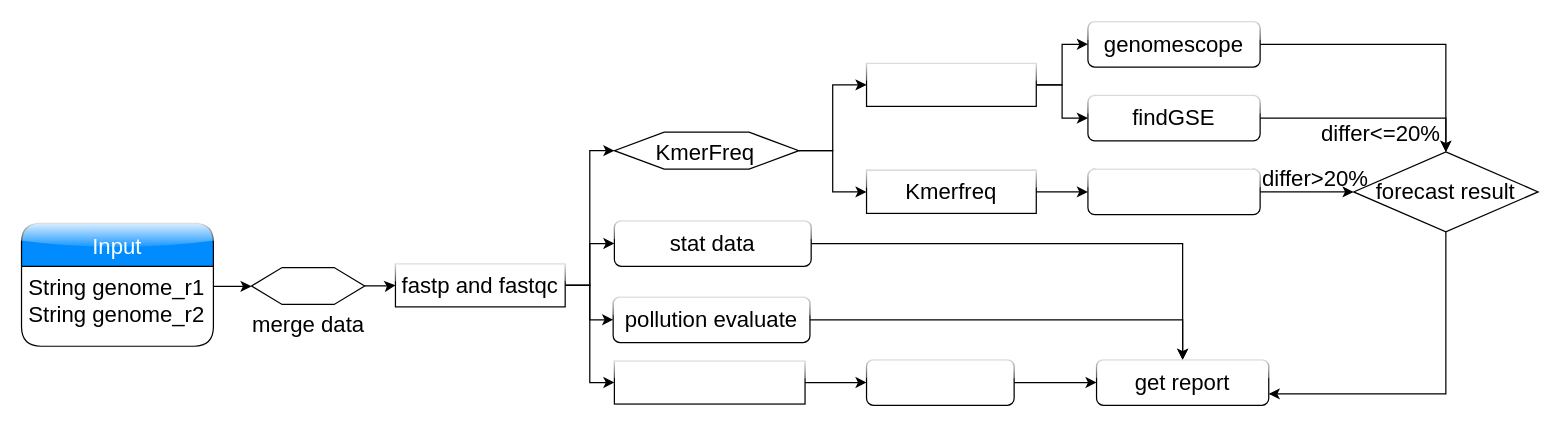
Image size: 1560x427. Some labels were removed from this diagram. The box of each missing label's shape, as (x1, y1, x2, y2) in pixels:
choose data (30x): (613, 131, 799, 169)
GC-depth: (865, 359, 1014, 405)
jellyfish: (865, 62, 1036, 106)
simulated hybrid: (1087, 168, 1260, 215)
Soapdenovo: (613, 360, 805, 404)
